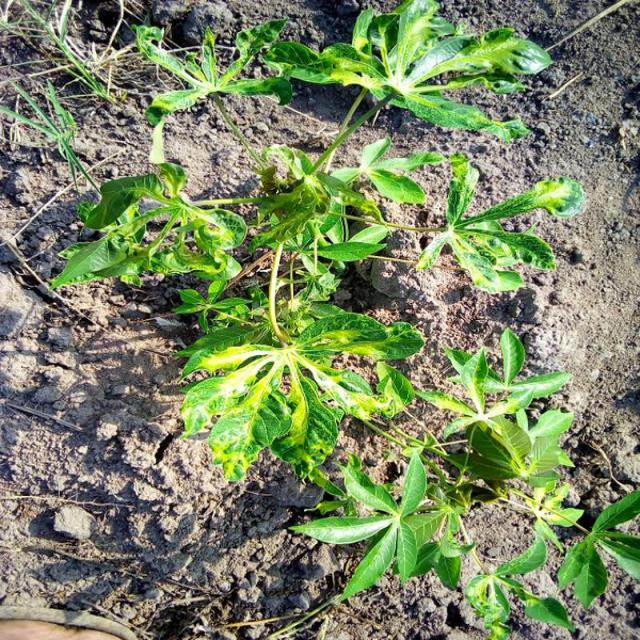cassava leaf: (50, 1, 583, 489)
